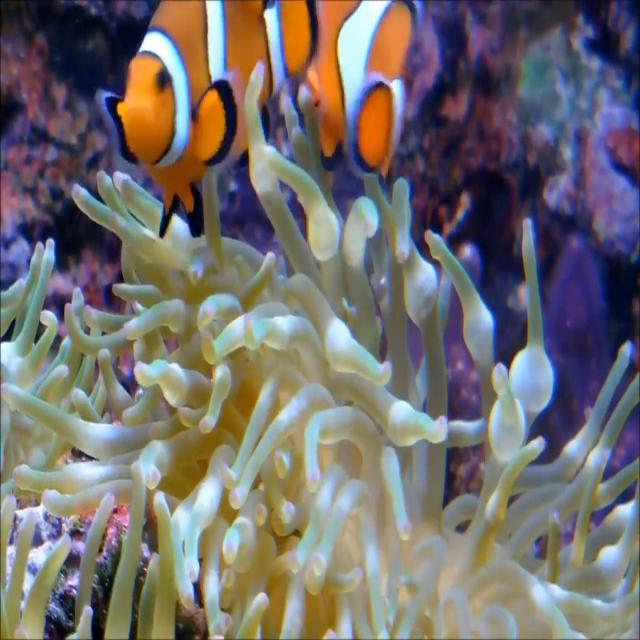Scissors: (0, 30, 114, 292)
